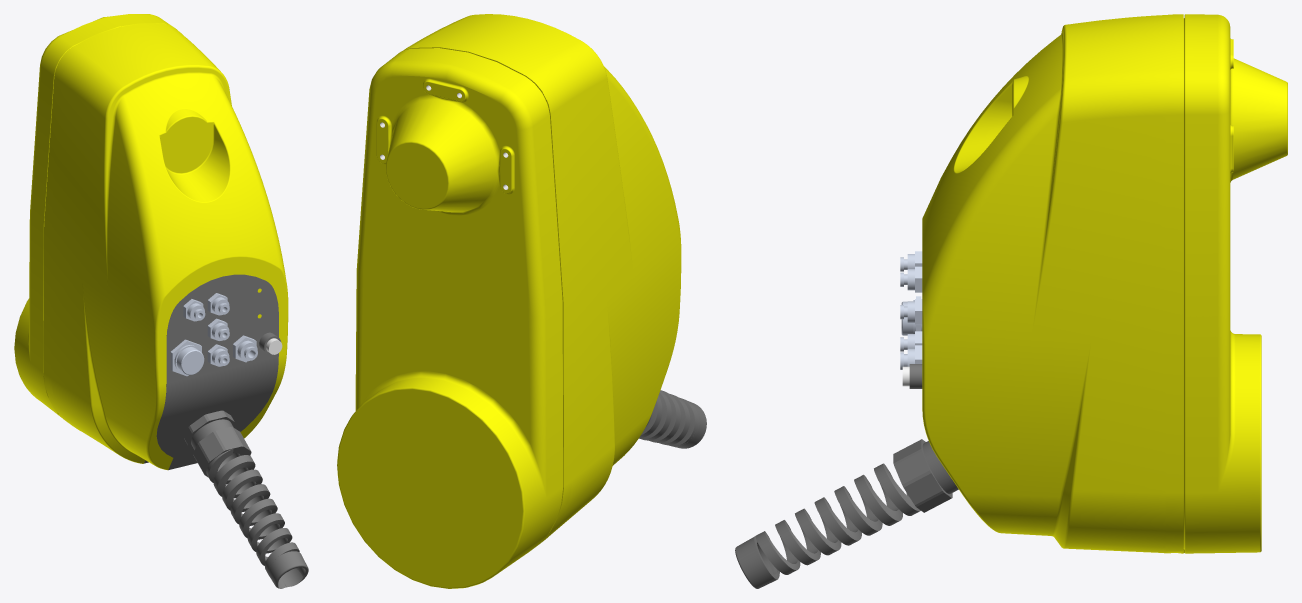
3 renders of one model, left to right at view 1: azimuth 30°, elevation 25°; view 2: azimuth 150°, elevation 25°; view 3: azimuth 270°, elevation 25°, orthographic. The views are drawn at different scales.
Visible parts, largest first — view 1: unnamed10.001, unnamed8.001, unnamed7.001; view 2: unnamed10.001, unnamed8.001; view 3: unnamed10.001, unnamed8.001, unnamed7.001.
Boxes of the visible parts, x1,y1,x2,y2 form: unnamed10.001: [14, 14, 288, 470]; unnamed8.001: [144, 274, 308, 588]; unnamed7.001: [170, 293, 257, 376]; unnamed10.001: [337, 14, 681, 588]; unnamed8.001: [639, 390, 706, 448]; unnamed10.001: [922, 14, 1287, 553]; unnamed8.001: [735, 364, 958, 588]; unnamed7.001: [900, 251, 922, 369].
Bounding box in the file's own units: 124 × 341 × 309.
